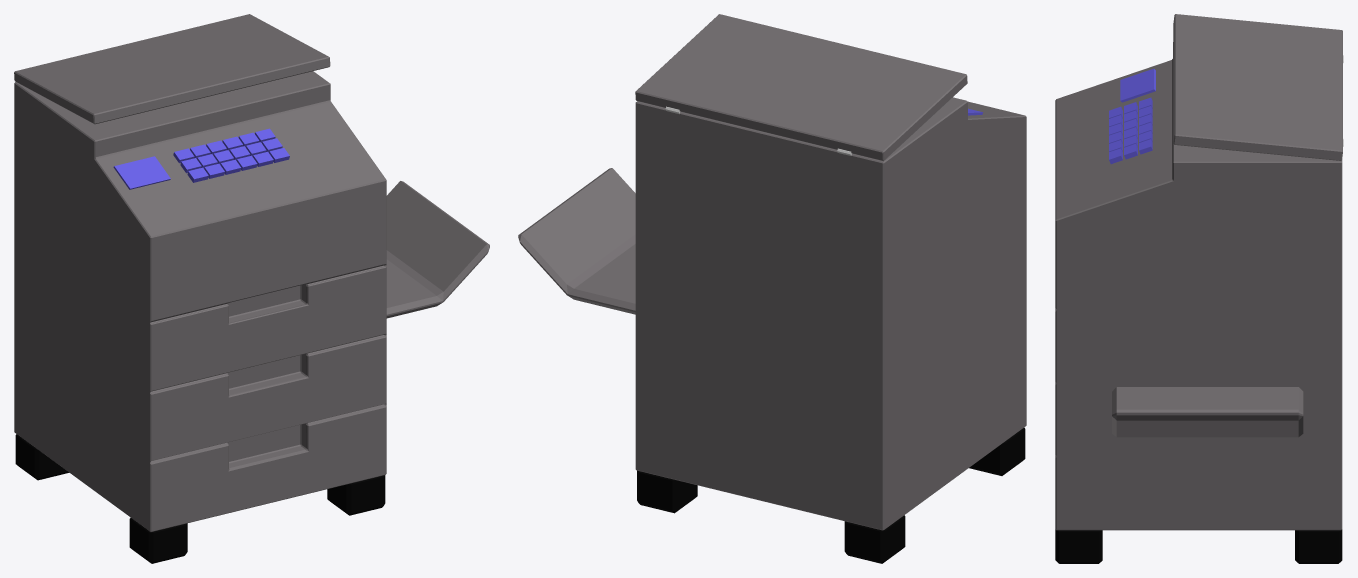
The model's file is Printer.glb.
The picture shows the model from 3 angles, left to right: view 1: azimuth 30°, elevation 25°; view 2: azimuth 150°, elevation 25°; view 3: azimuth 270°, elevation 25°; orthographic projection. The views are drawn at different scales.
Visible parts, largest first — view 1: Cube.008, Cube.010, Cube.009, Cube.012, Cube.011; view 2: Cube.008, Cube.010, Cube.009; view 3: Cube.008, Cube.010, Cube.009, Cube.012, Cube.011.
Boxes of the visible parts, <box> form: Cube.008: <box>14,14,386,531</box>; Cube.010: <box>386,181,489,318</box>; Cube.009: <box>15,434,385,563</box>; Cube.012: <box>173,128,289,182</box>; Cube.011: <box>113,156,170,189</box>; Cube.008: <box>635,14,1026,530</box>; Cube.010: <box>518,168,635,314</box>; Cube.009: <box>637,427,1025,563</box>; Cube.008: <box>1055,14,1342,530</box>; Cube.010: <box>1112,387,1303,437</box>; Cube.009: <box>1055,529,1342,563</box>; Cube.012: <box>1109,97,1152,164</box>; Cube.011: <box>1120,68,1155,102</box>.
Bounding box in the file's own units: 1.25 × 1.33 × 0.8044.
